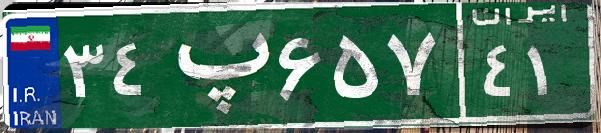1: (525, 38, 570, 115)
3: (57, 26, 110, 107)
4: (475, 38, 525, 113), (110, 28, 158, 105)
5: (330, 28, 385, 110)
6: (273, 28, 330, 110)
7: (385, 28, 445, 110)
پ: (158, 15, 273, 115)
